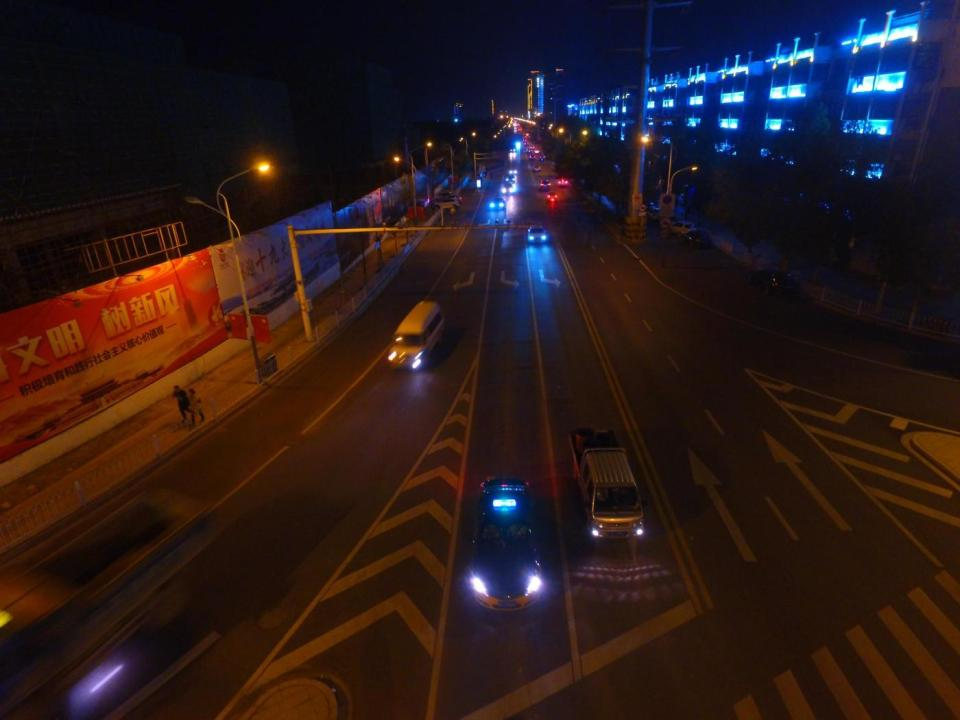car: (474, 476, 542, 613), (745, 264, 801, 298), (665, 219, 698, 236), (682, 231, 712, 249), (526, 225, 548, 244), (428, 198, 460, 211), (436, 193, 462, 204), (488, 197, 506, 211), (500, 182, 513, 195), (557, 176, 568, 188), (546, 193, 559, 202), (539, 180, 548, 191), (509, 166, 517, 175), (534, 166, 542, 174), (504, 175, 513, 182), (539, 155, 545, 161), (510, 147, 516, 153), (530, 155, 536, 160), (526, 148, 531, 154), (530, 145, 534, 149), (524, 142, 528, 146), (522, 138, 526, 142), (536, 150, 539, 154)
truck: (565, 428, 645, 544)
van: (386, 301, 446, 371)
